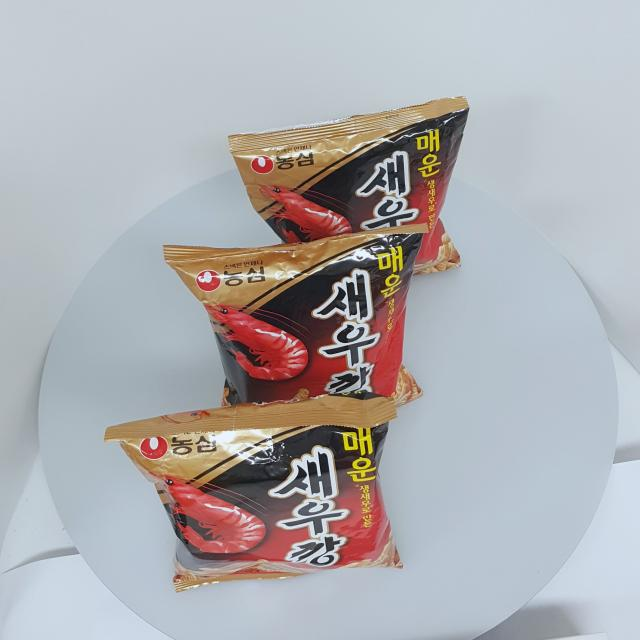-90G: (104, 391, 404, 594), (163, 223, 430, 435), (229, 96, 471, 288)
